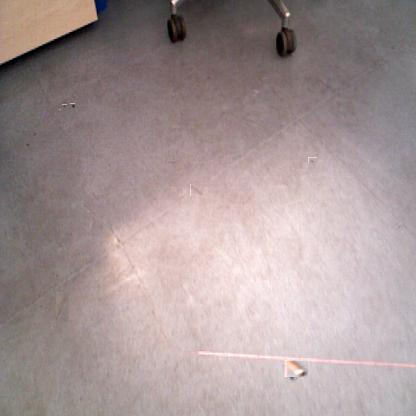dirty: (286, 359, 307, 379)
mark: (56, 292, 68, 322), (190, 184, 203, 196), (169, 156, 179, 166), (24, 142, 31, 150), (309, 157, 316, 164), (32, 132, 38, 140), (396, 222, 402, 230), (69, 103, 75, 110), (62, 104, 67, 110)
